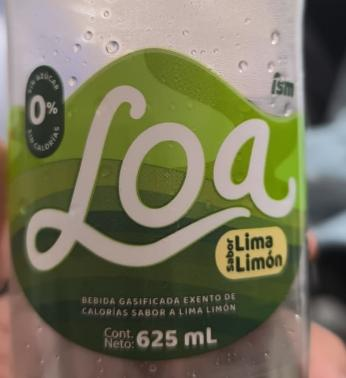brand: (15, 78, 309, 284)
net_weight: (135, 321, 223, 350)
product_name: (223, 232, 285, 279)
